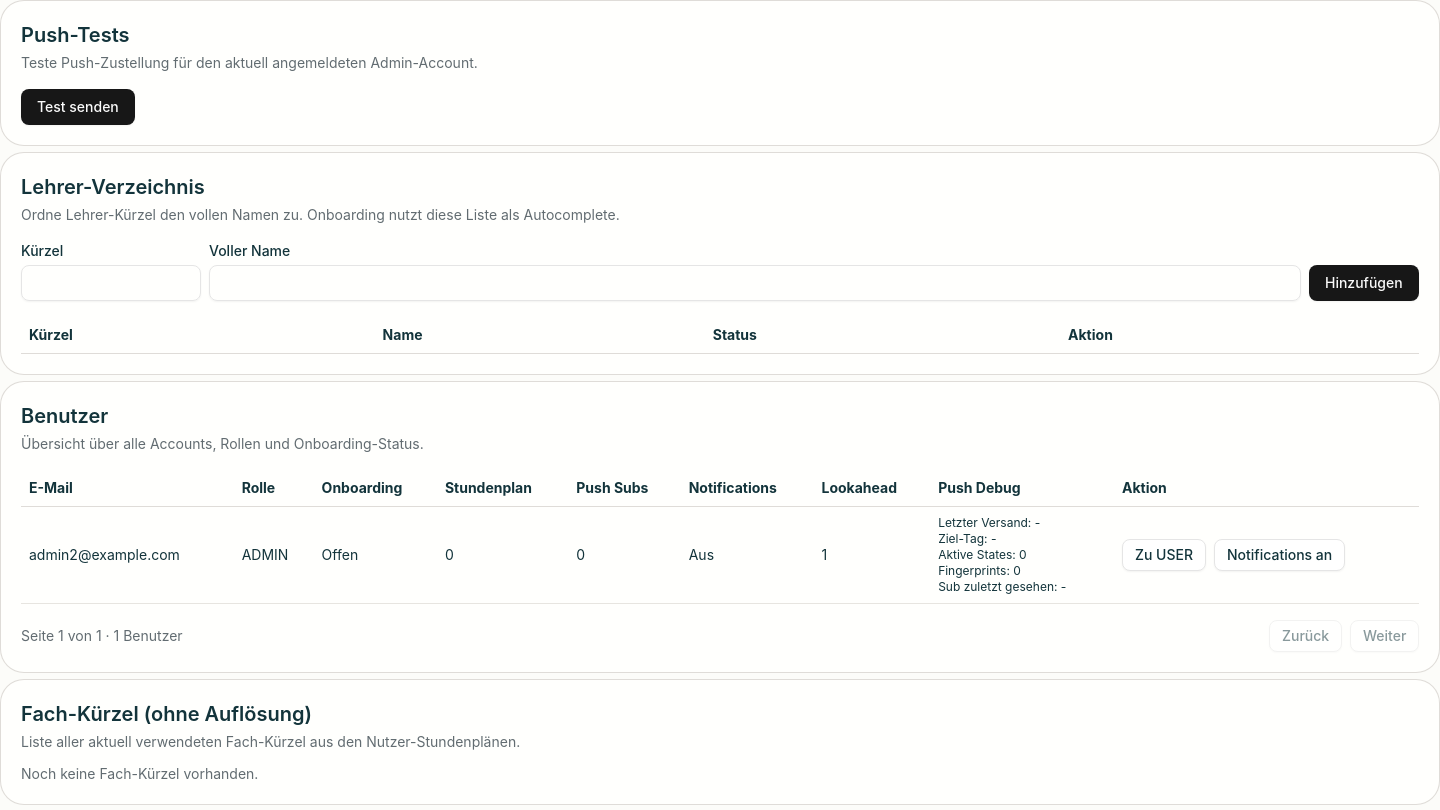
Test case: AdminPanel role demotion confirmation › keeps confirm button disabled until matching email is entered
This screenshot has width=1440, height=810.
Click the button "Zu USER".
click(1164, 555)  # box left=1122, top=539, right=1206, bottom=571
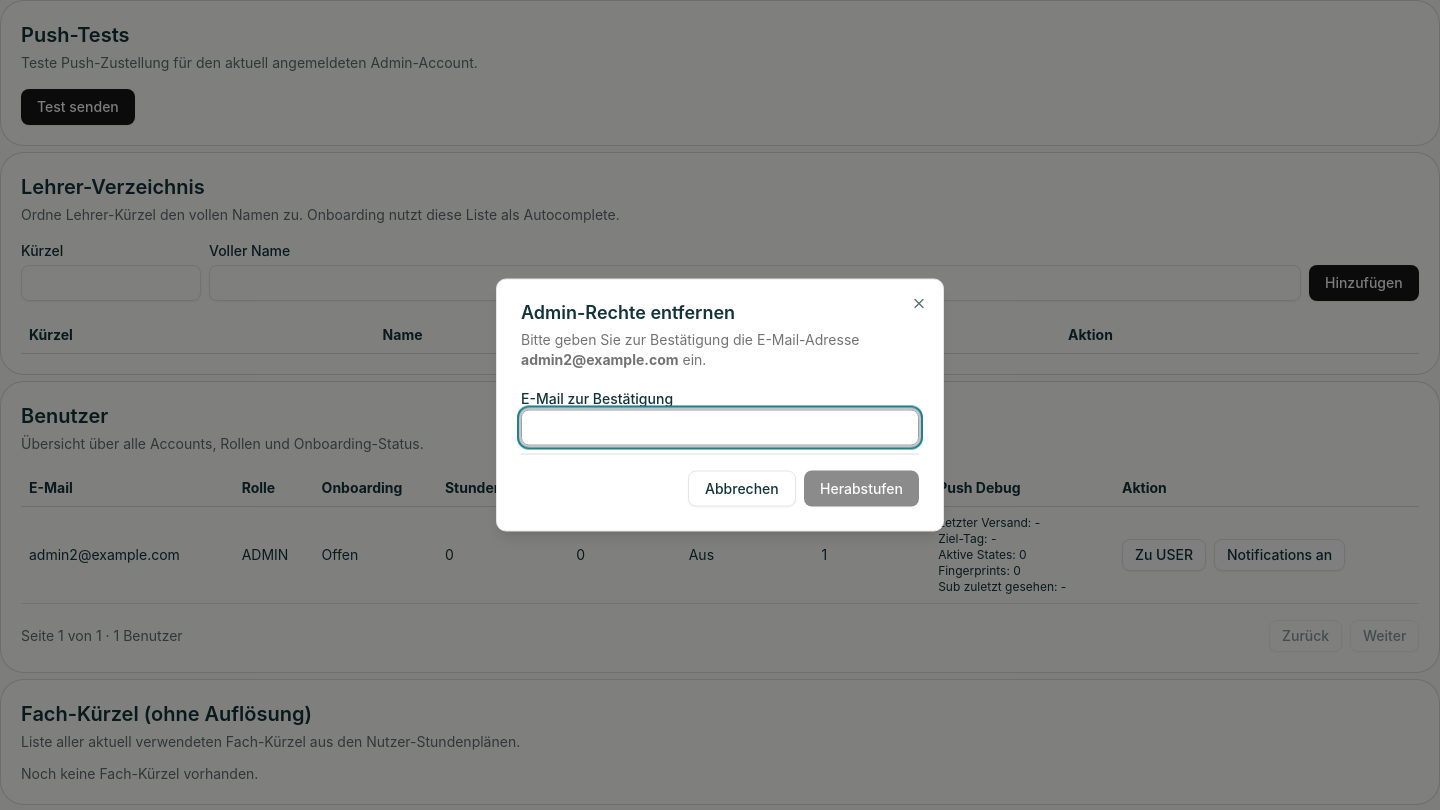
Now the button "Herabstufen" is disabled, box left=804, top=470, right=919, bottom=506
Type "wrong@example.com" into the field labelled "E-Mail zur Bestätigung".
click(720, 428); type("wrong@example.com")  # box left=521, top=410, right=919, bottom=446
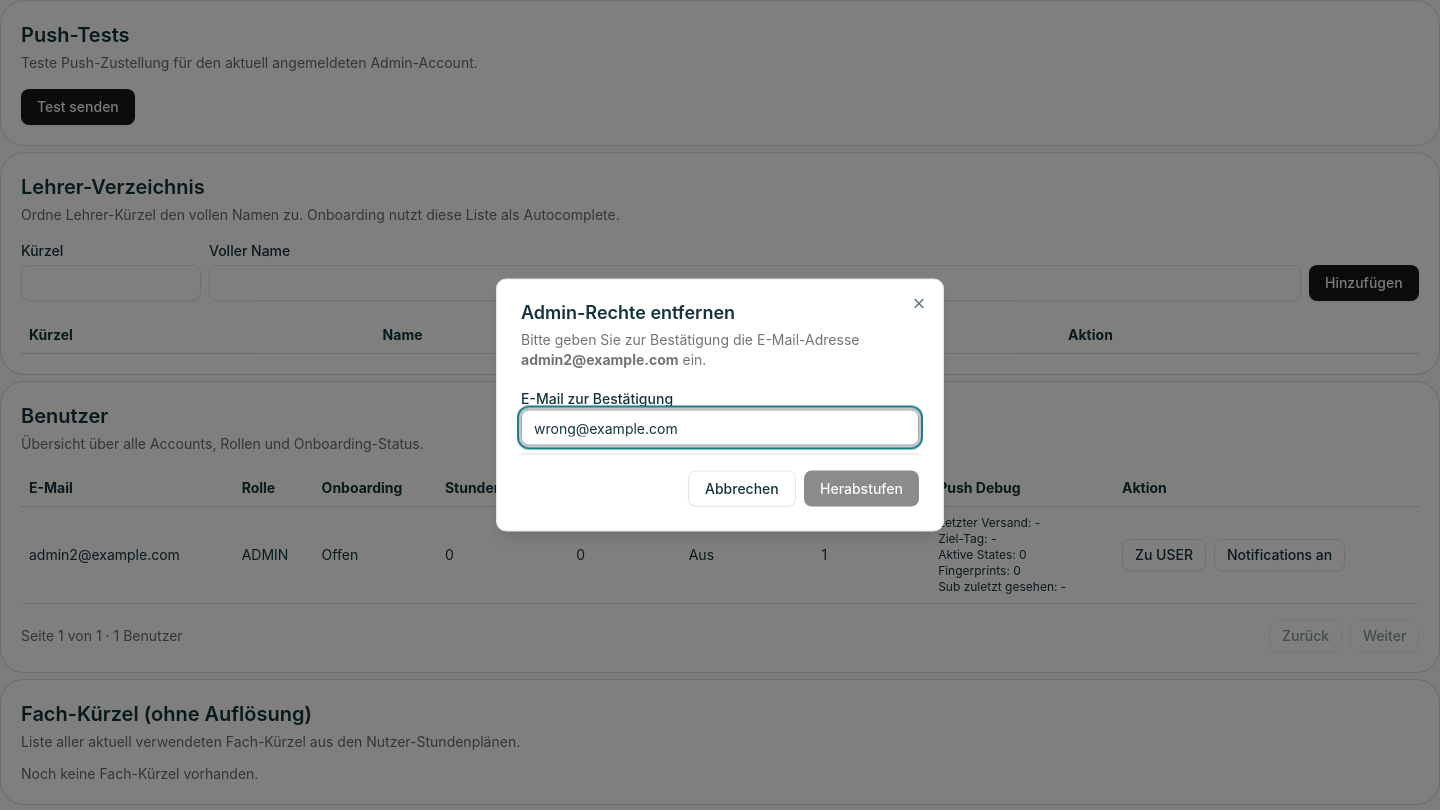
Now the button "Herabstufen" is disabled, box left=804, top=470, right=919, bottom=506
Replace the text in the field labelled "E-Mail zur Bestätigung" with " Admin2@Example.com " at (720, 428), box left=521, top=410, right=919, bottom=446
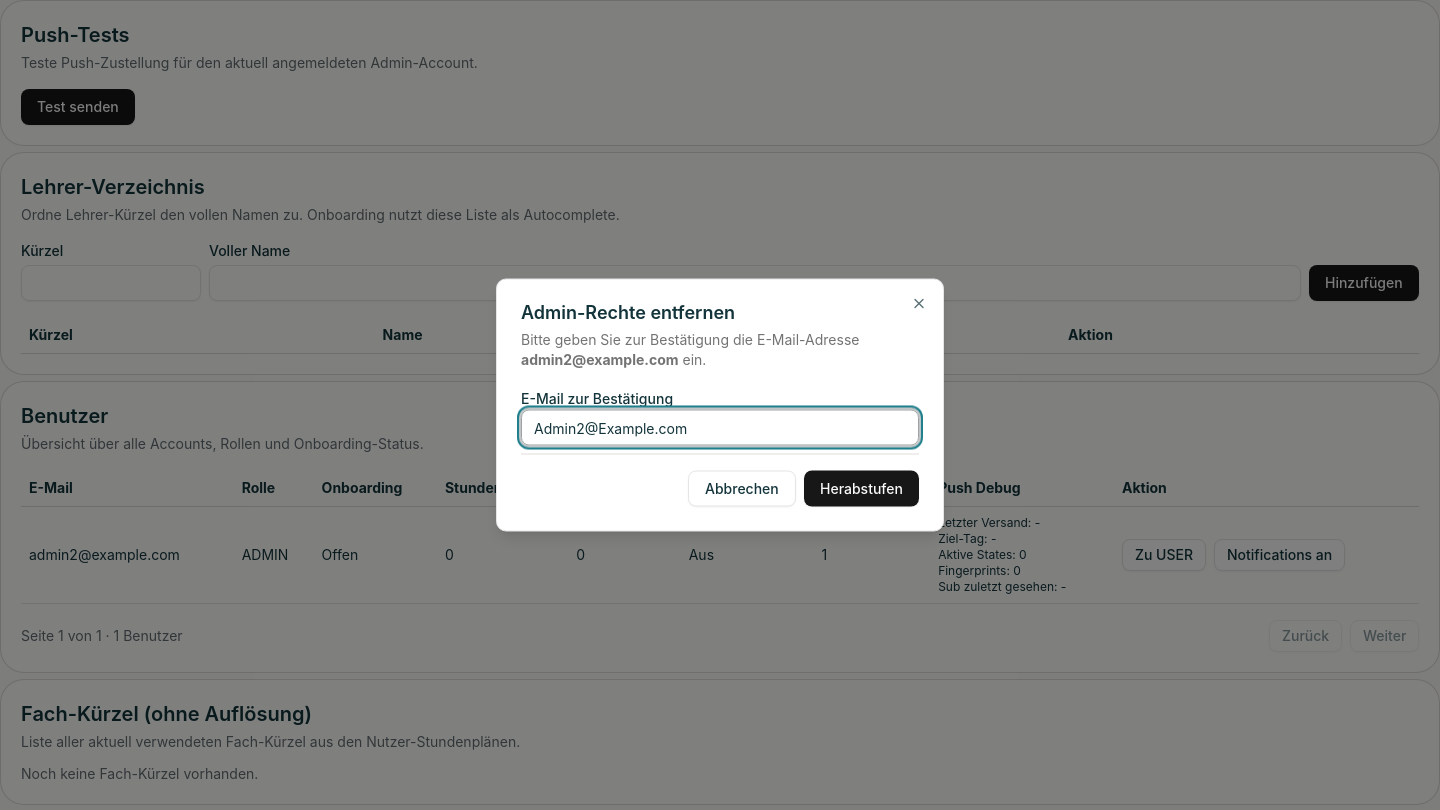
Now the button "Herabstufen" is enabled, box left=804, top=470, right=919, bottom=506
